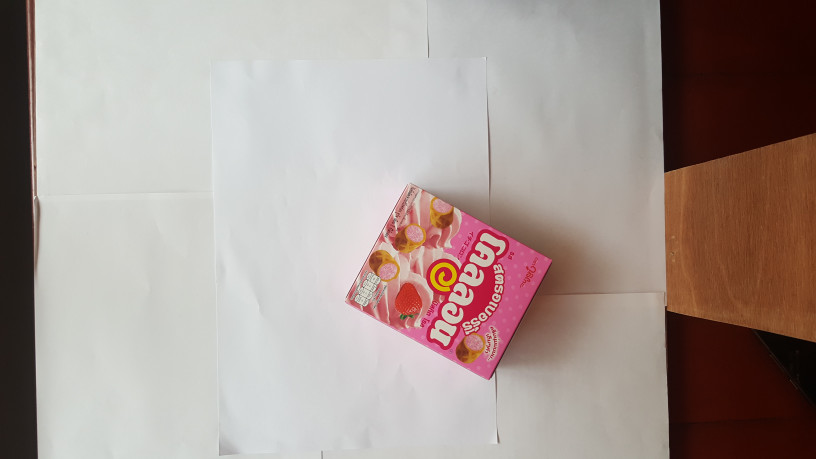collon-strawberry: (343, 182, 554, 381)
